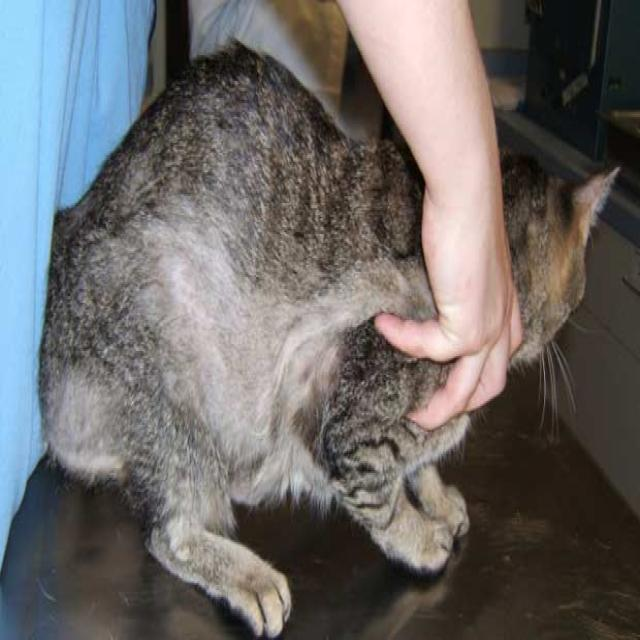cat-hairloss: (156, 215, 330, 476)
